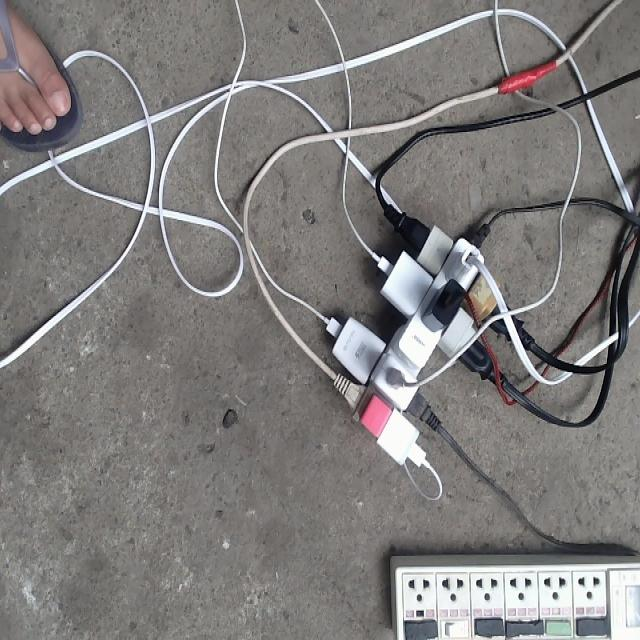-: (327, 204, 536, 464)
